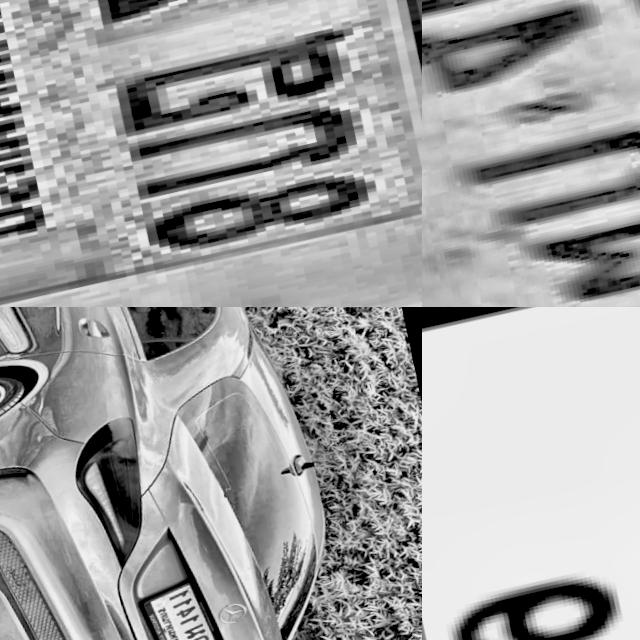license-plate: (0, 0, 422, 307), (422, 307, 640, 640), (422, 0, 640, 307), (133, 570, 237, 640)
